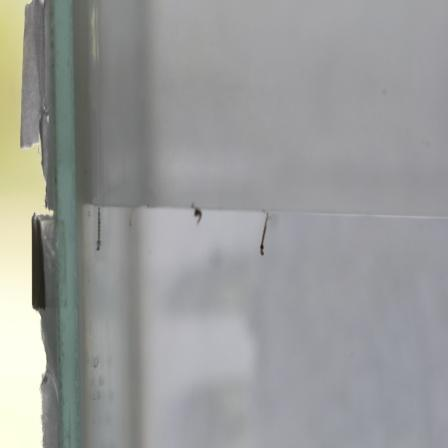Jentik-Nyamuk: (257, 208, 272, 260), (92, 203, 106, 255), (187, 203, 207, 228)
